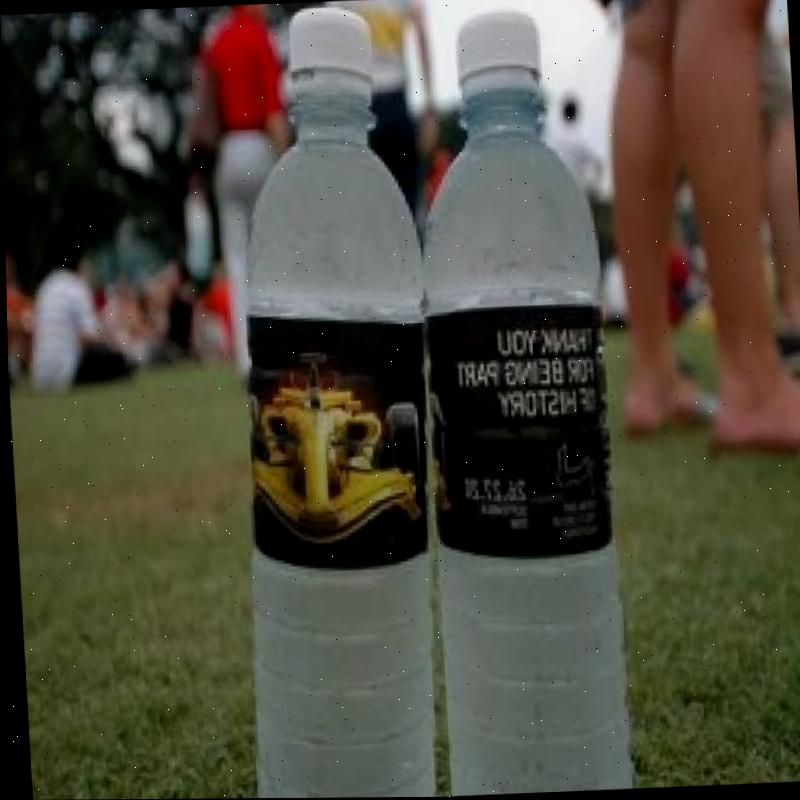botella: (209, 0, 455, 799), (402, 5, 624, 797)
